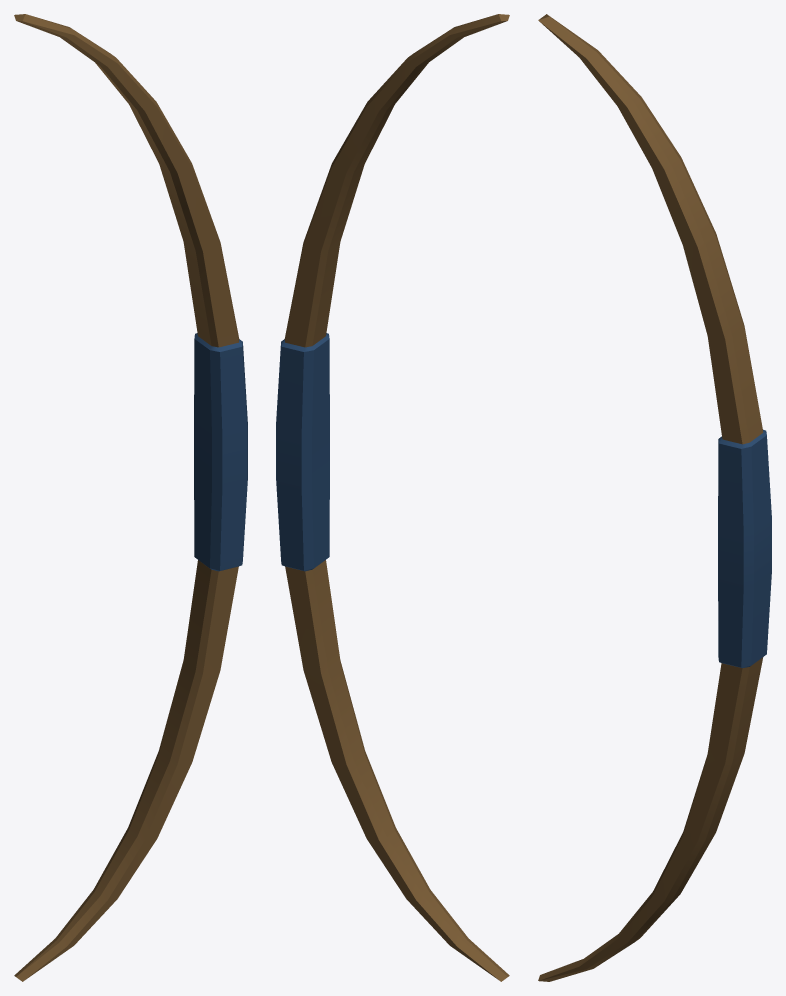
Rendered from ShortBow.fbx.
3 renders of one model, left to right at view 1: azimuth 30°, elevation 25°; view 2: azimuth 150°, elevation 25°; view 3: azimuth 330°, elevation 25°, orthographic.
Parts seen in each view (by area): view 1: ShortBow; view 2: ShortBow; view 3: ShortBow.
Part boxes in pixels (x1,y1,x2,y2): ShortBow: (14, 14, 247, 981); ShortBow: (276, 14, 509, 981); ShortBow: (538, 14, 771, 981).
Bounding box in the file's own units: 0.3908 × 1.62 × 0.084.
